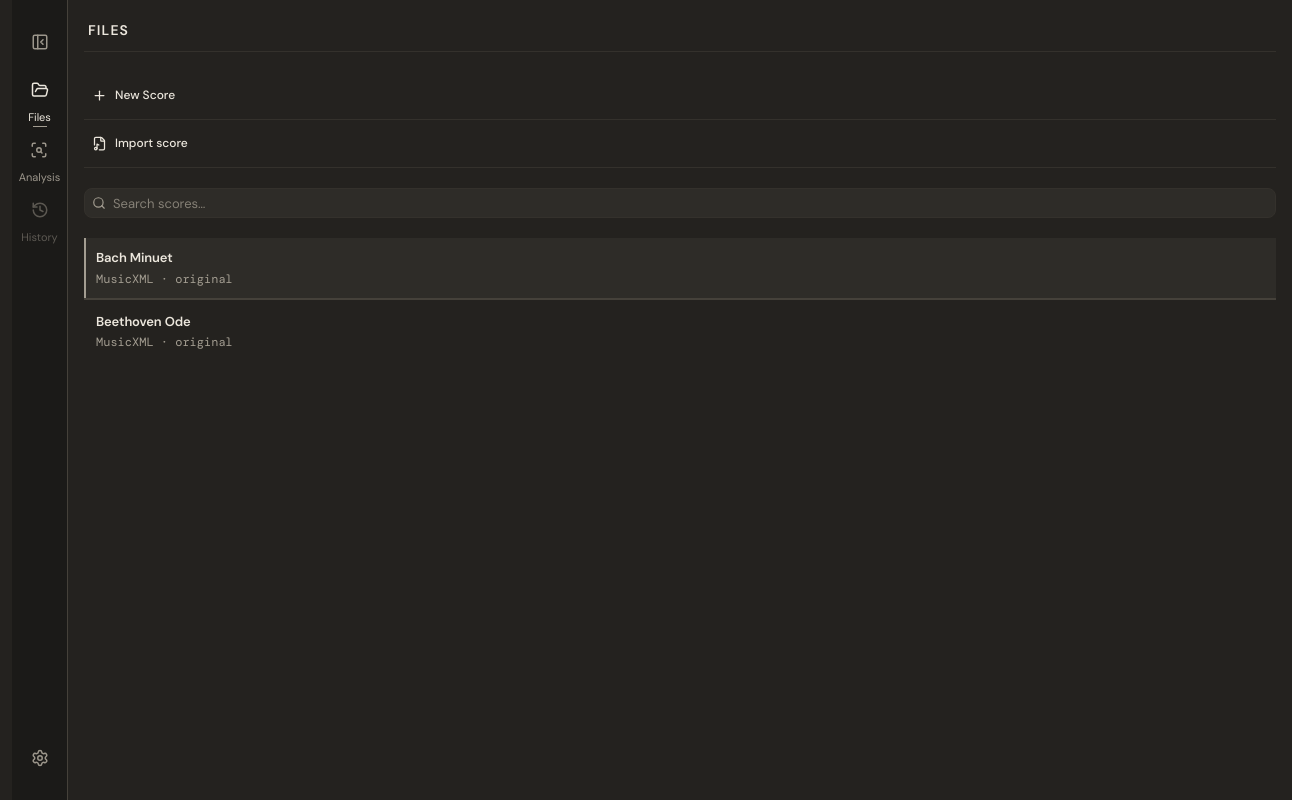
Scenario: FileRail Component › filters scores in real time by title or filename and clears with clear button or Escape
Check: the text "Bach Minuet" is shown, box x1=96 y1=249 x2=172 y2=266
Check: the text "Beethoven Ode" is shown, box x1=96 y1=312 x2=190 y2=330
// Filter by "Bach"
Type "Bach" into the field labelled "Search scores".
click(680, 203); type("Bach")  # box x1=84 y1=188 x2=1276 y2=218
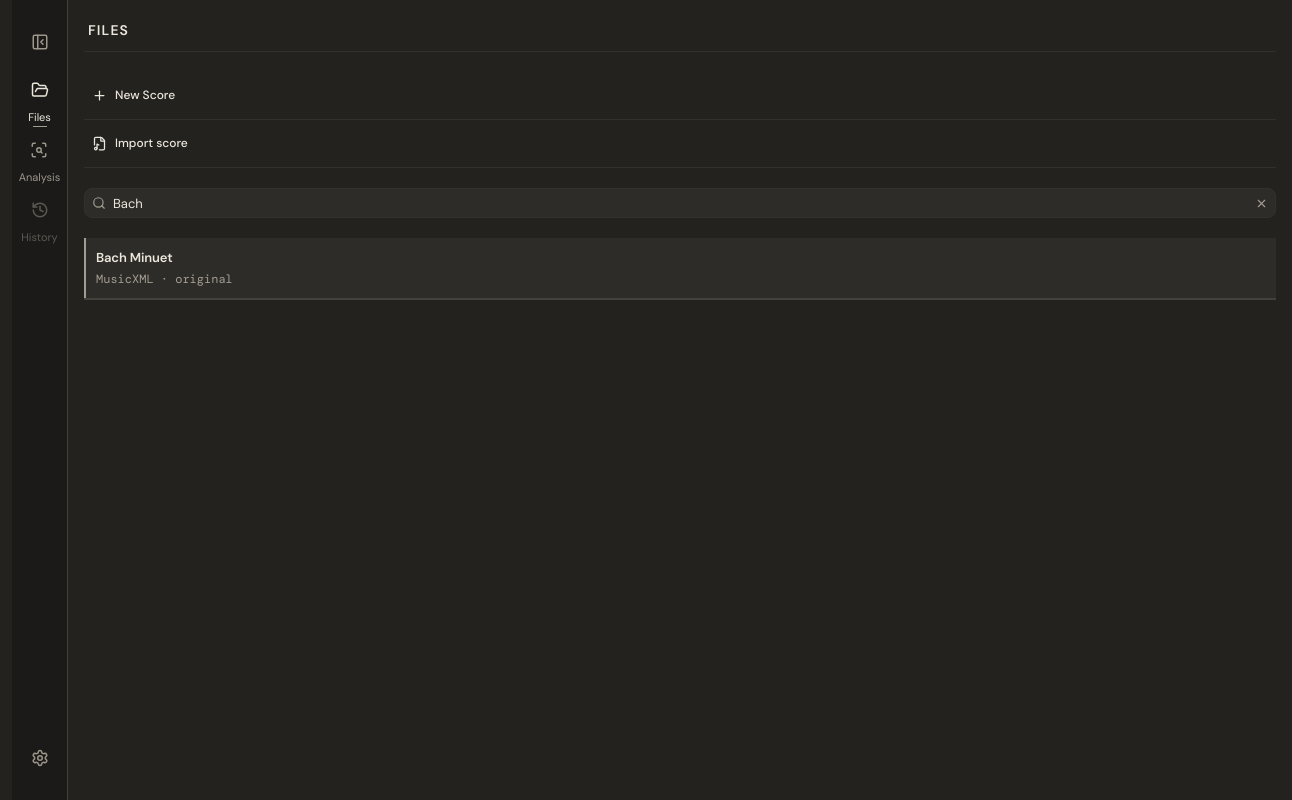
Check: the text "Bach Minuet" is shown, box x1=96 y1=249 x2=172 y2=266
Check: the button "Beethoven Ode" is gone
Check: the button named "Clear search" is shown
// Click clear button
Click the button named "Clear search".
click(1261, 203)  # box x1=1252 y1=194 x2=1270 y2=212
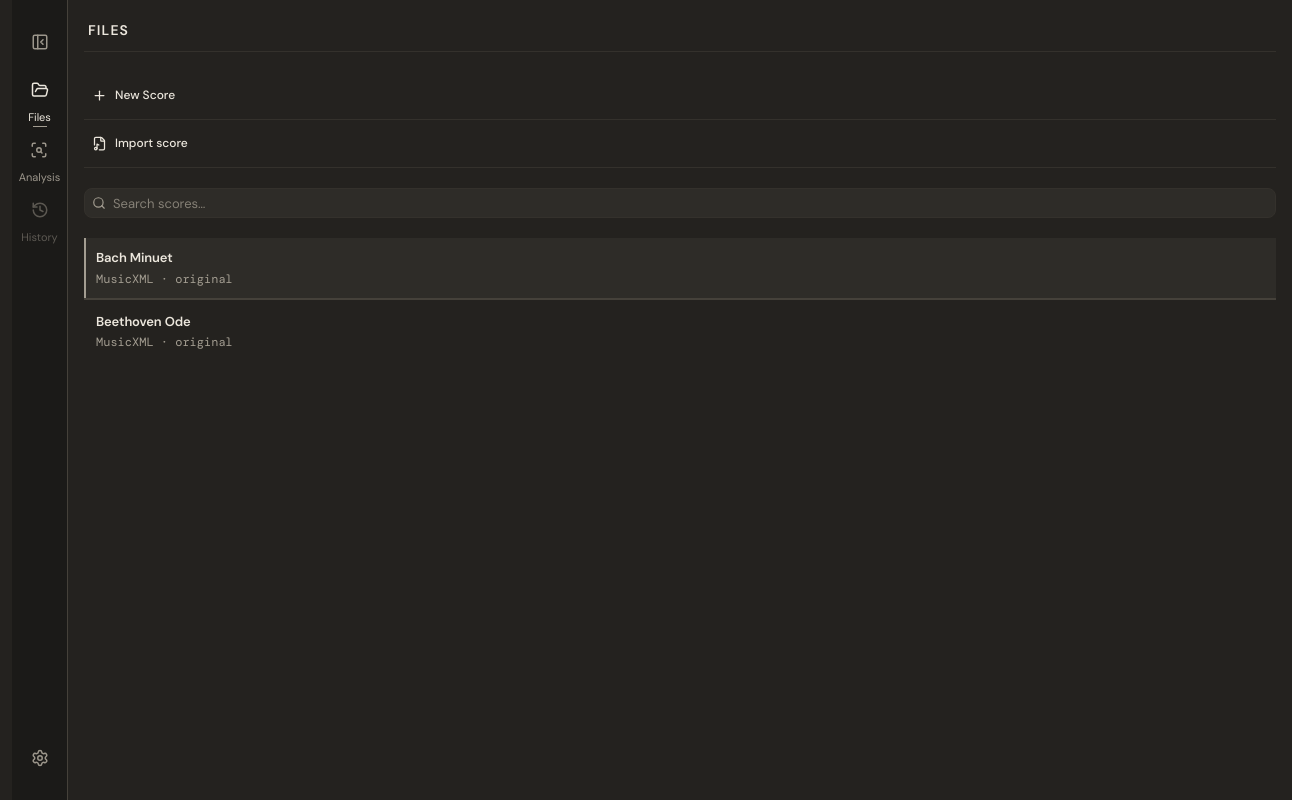
Check: the text "Bach Minuet" is shown, box x1=96 y1=249 x2=172 y2=266
Check: the text "Beethoven Ode" is shown, box x1=96 y1=312 x2=190 y2=330
// Filter by "Ode" and clear with Escape key
Type "Ode" into the field labelled "Search scores".
click(680, 203); type("Ode")  # box x1=84 y1=188 x2=1276 y2=218
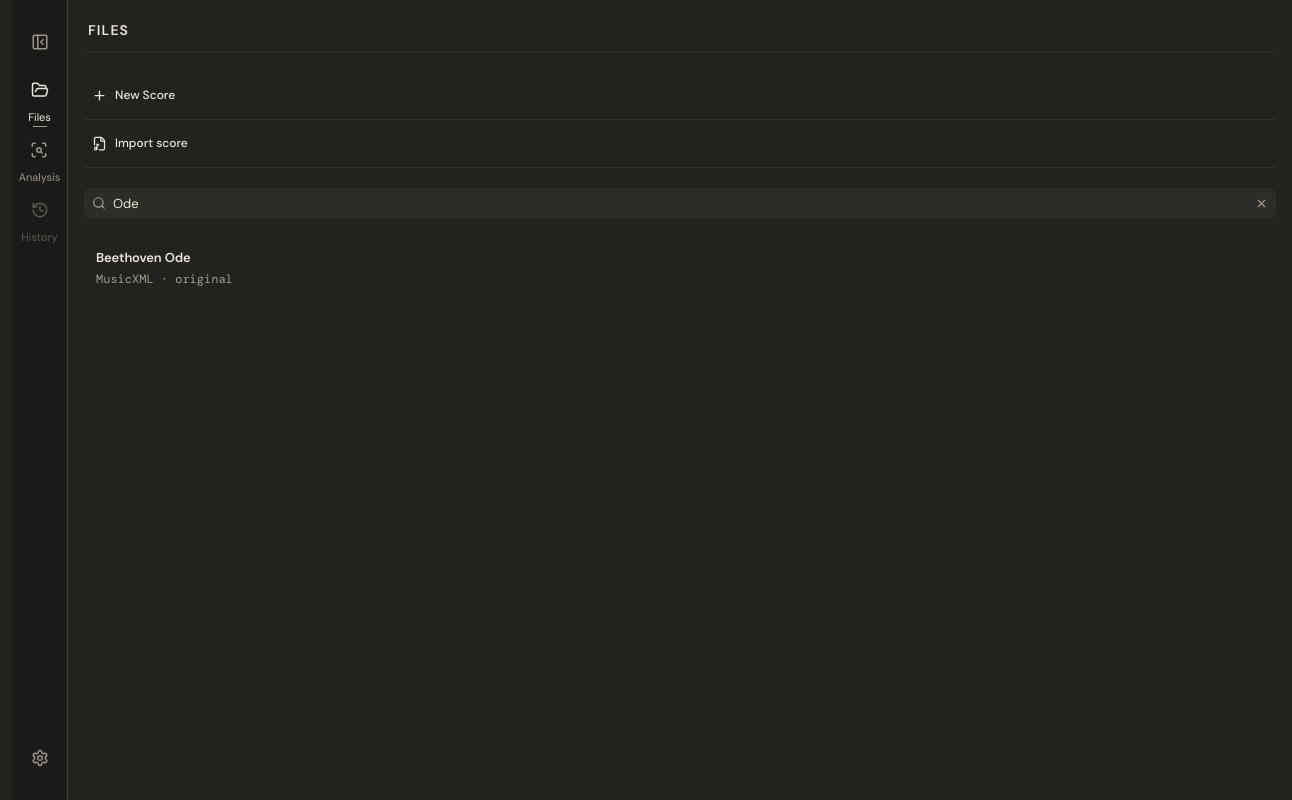
Check: the text "Beethoven Ode" is shown, box x1=96 y1=249 x2=190 y2=266
Check: the button "Bach Minuet" is gone
Press Escape in the field named "Search scores", box x1=84 y1=188 x2=1276 y2=218
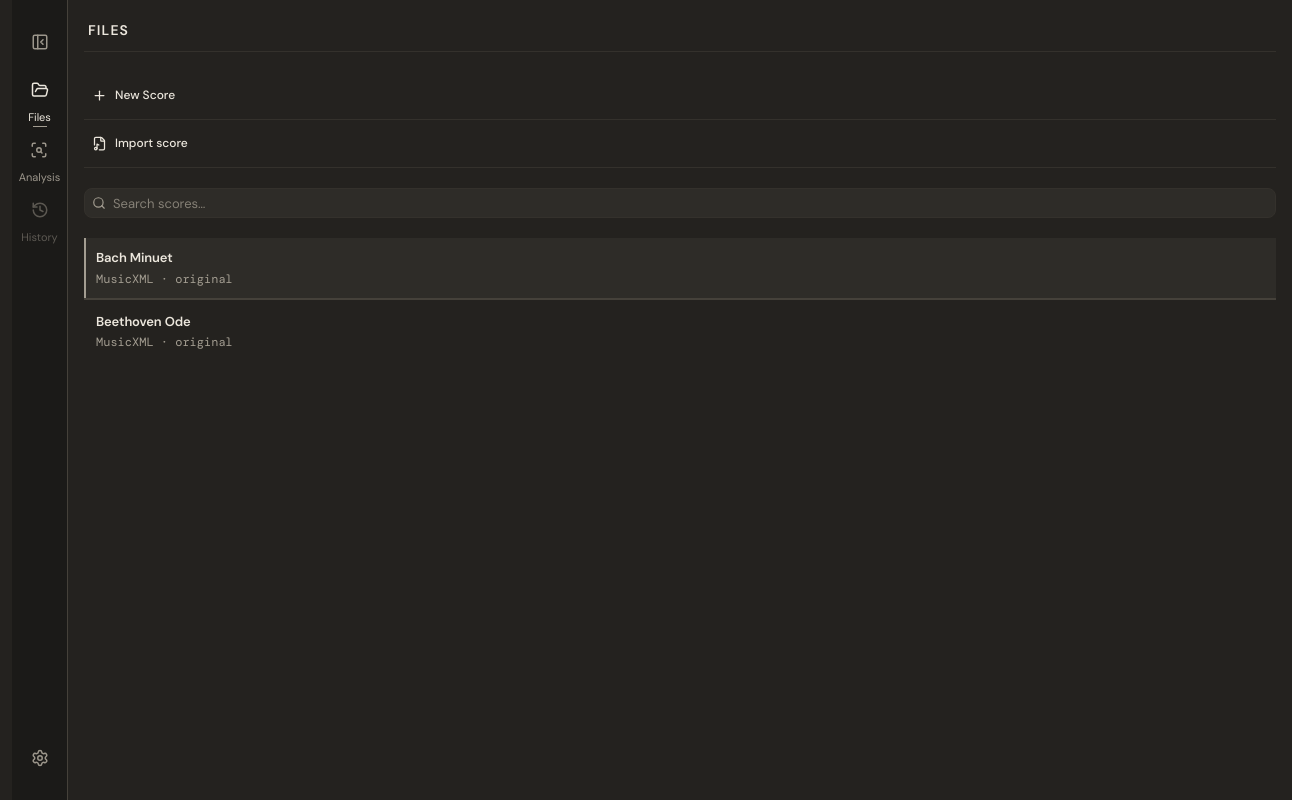
Check: the text "Beethoven Ode" is shown, box x1=96 y1=312 x2=190 y2=330
Check: the text "Bach Minuet" is shown, box x1=96 y1=249 x2=172 y2=266
